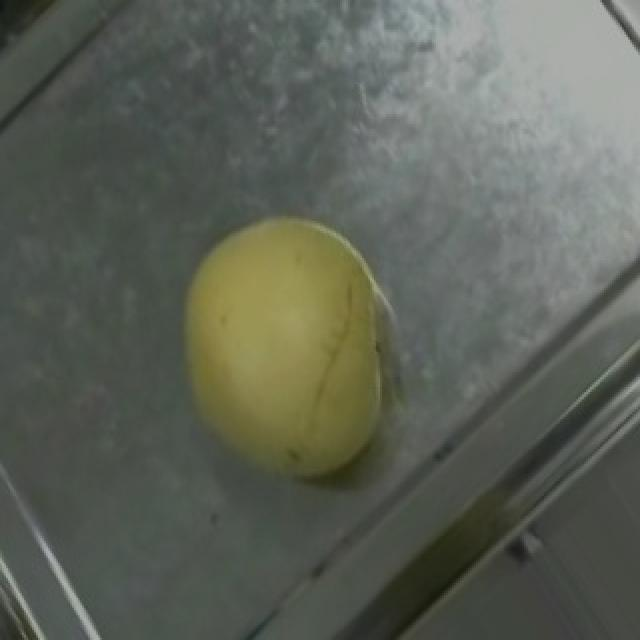Fruit: (130, 179, 444, 521)
